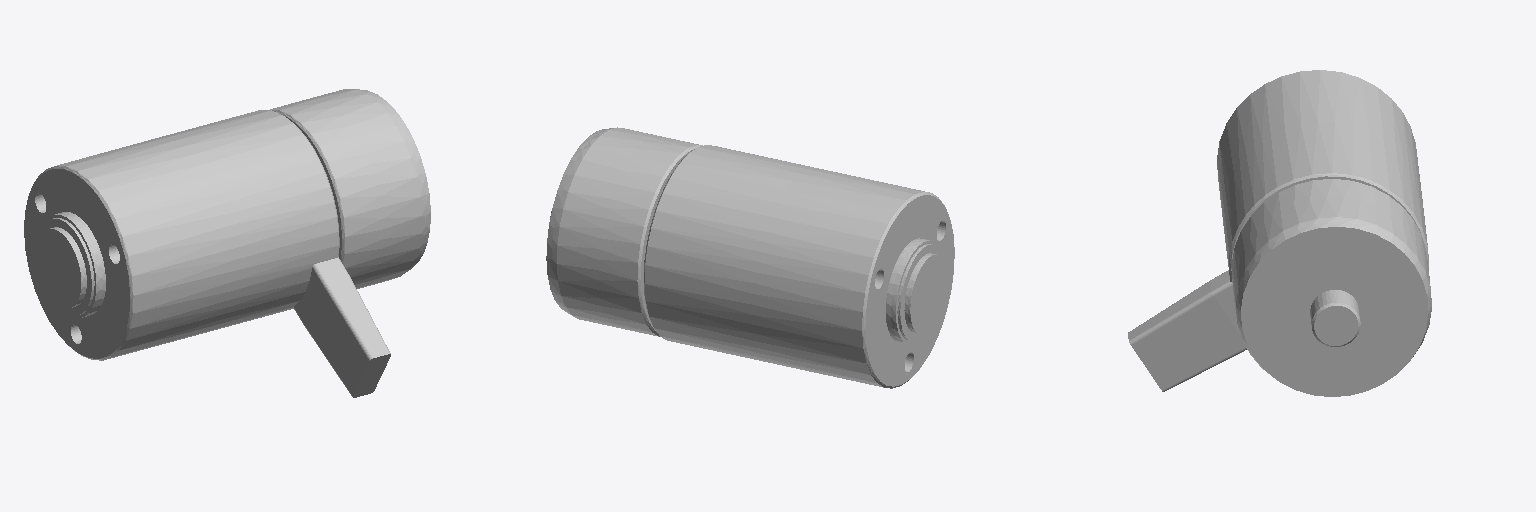
The model's file is motor_knee_left_rear.obj.
The picture shows the model from 3 angles: view 1: azimuth 30°, elevation 25°; view 2: azimuth 150°, elevation 25°; view 3: azimuth 270°, elevation 25°; orthographic projection.
Visible parts, largest first — view 1: Body2.010; view 2: Body2.010; view 3: Body2.010.
Boxes of the visible parts, box(x1,y1,x2,y2) form: Body2.010: box(24, 89, 430, 397); Body2.010: box(546, 127, 954, 388); Body2.010: box(1128, 70, 1431, 396).
Bounding box in the file's own units: 0.0507 × 0.0292 × 0.037.